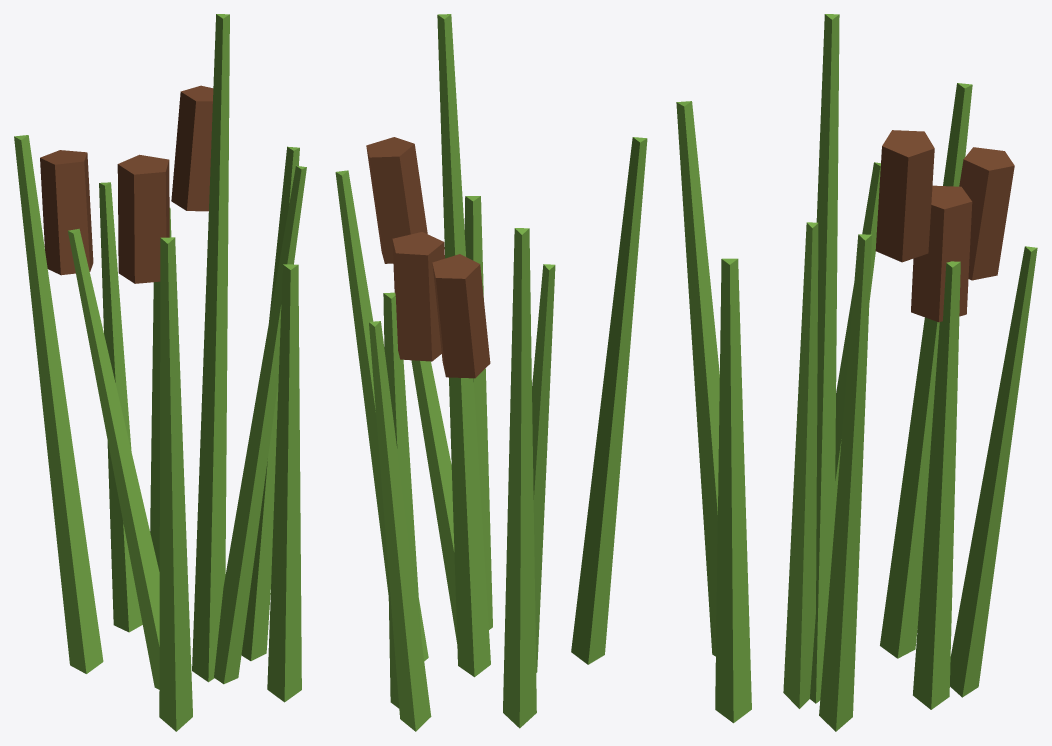
The model's file is Reeds.fbx.
3 renders of one model, left to right at view 1: azimuth 30°, elevation 25°; view 2: azimuth 150°, elevation 25°; view 3: azimuth 270°, elevation 25°, orthographic. The views are drawn at different scales.
Visible parts, largest first — view 1: Reeds; view 2: Reeds; view 3: Reeds.
Boxes of the visible parts, bbox=[...] form: Reeds: bbox=[14, 14, 306, 731]; Reeds: bbox=[335, 14, 647, 731]; Reeds: bbox=[676, 14, 1037, 731].
Size of the model in its own units: 0.5717 by 1.51 by 0.7128.
